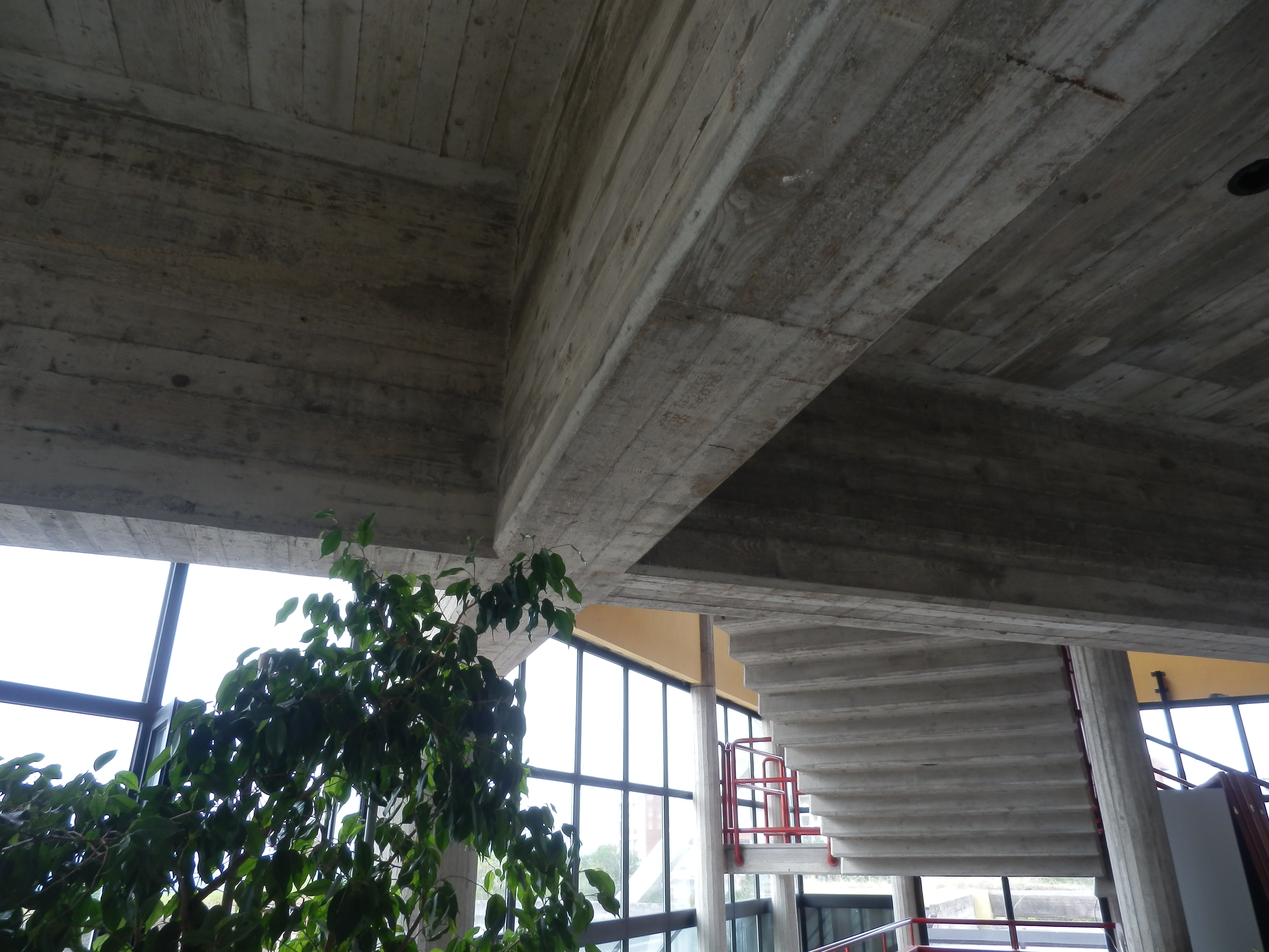Corrosion/Exposed rebar: (1004, 47, 1126, 107)
Spalling: (996, 40, 1134, 118)
